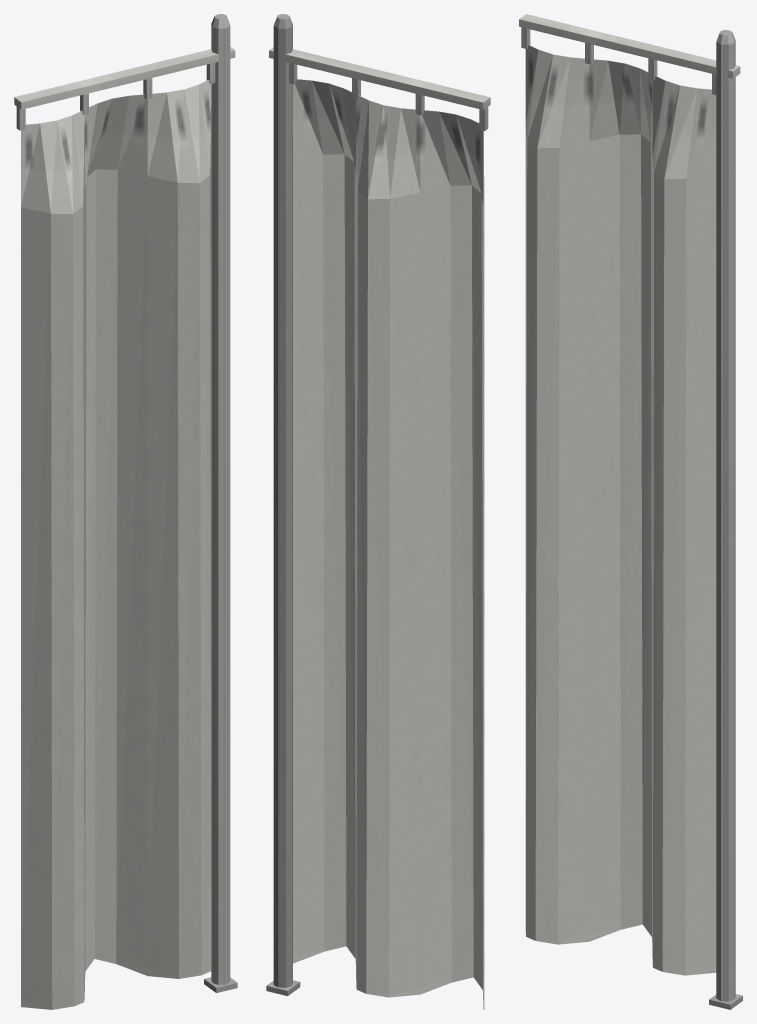
File: pool_curtain_end.glb
The picture shows the model from 3 angles, left to right: view 1: azimuth 30°, elevation 25°; view 2: azimuth 150°, elevation 25°; view 3: azimuth 330°, elevation 25°; orthographic projection.
Visible parts, largest first — view 1: core_pool_curtain_end; view 2: core_pool_curtain_end; view 3: core_pool_curtain_end.
Part boxes in pixels (left/top/right/bottom): core_pool_curtain_end: left=14, top=14, right=237, bottom=1009; core_pool_curtain_end: left=266, top=14, right=490, bottom=1009; core_pool_curtain_end: left=519, top=14, right=742, bottom=1009.
Bounding box in the file's own units: 0.6 × 2.6 × 0.214.
1 material, 1 textured.
